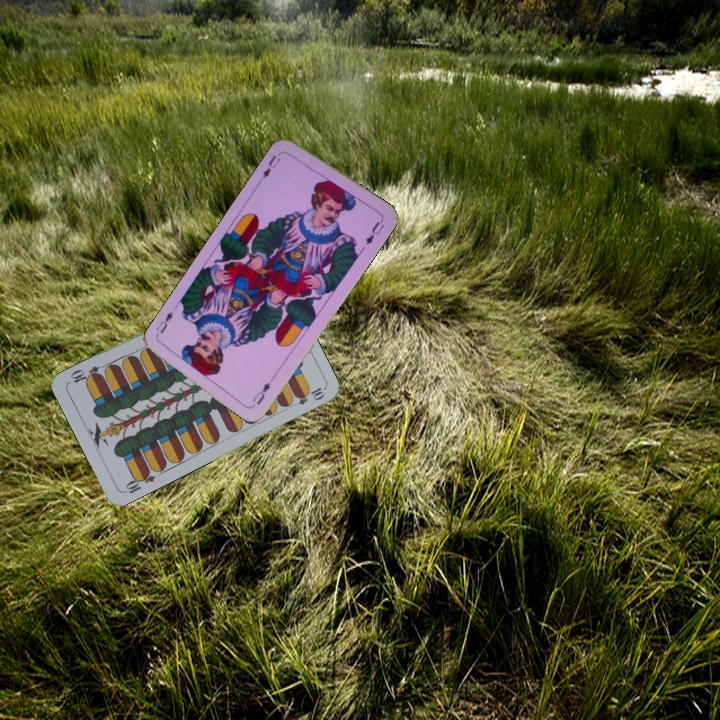E10: (120, 466, 158, 496)
EU: (256, 151, 283, 184), (248, 378, 273, 408)
